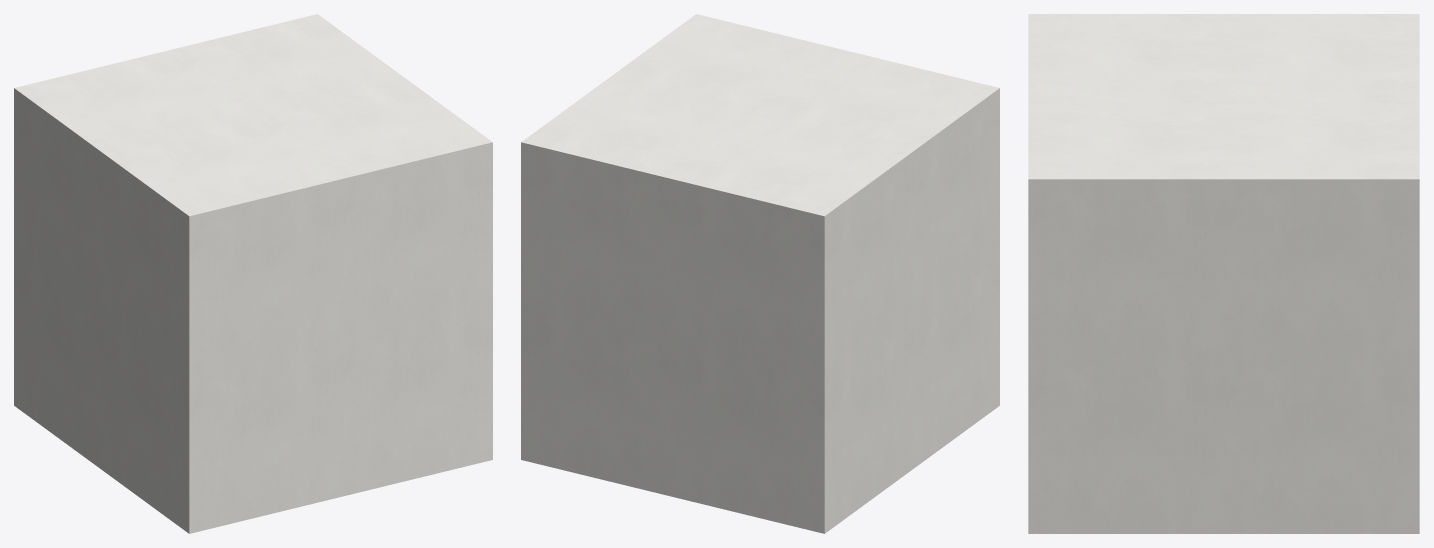
Rendered from Cube_Blendshape_test.glb.
The picture shows the model from 3 angles, left to right: view 1: azimuth 30°, elevation 25°; view 2: azimuth 150°, elevation 25°; view 3: azimuth 270°, elevation 25°; orthographic projection. The views are drawn at different scales.
Visible parts, largest first — view 1: Cube; view 2: Cube; view 3: Cube.
Part boxes in pixels (bbox=[...]): Cube: bbox=[14, 14, 492, 533]; Cube: bbox=[521, 14, 999, 533]; Cube: bbox=[1028, 14, 1419, 533].
Size of the model in its own units: 2 by 2 by 2.
Materials: 1 (1 with a texture image).
